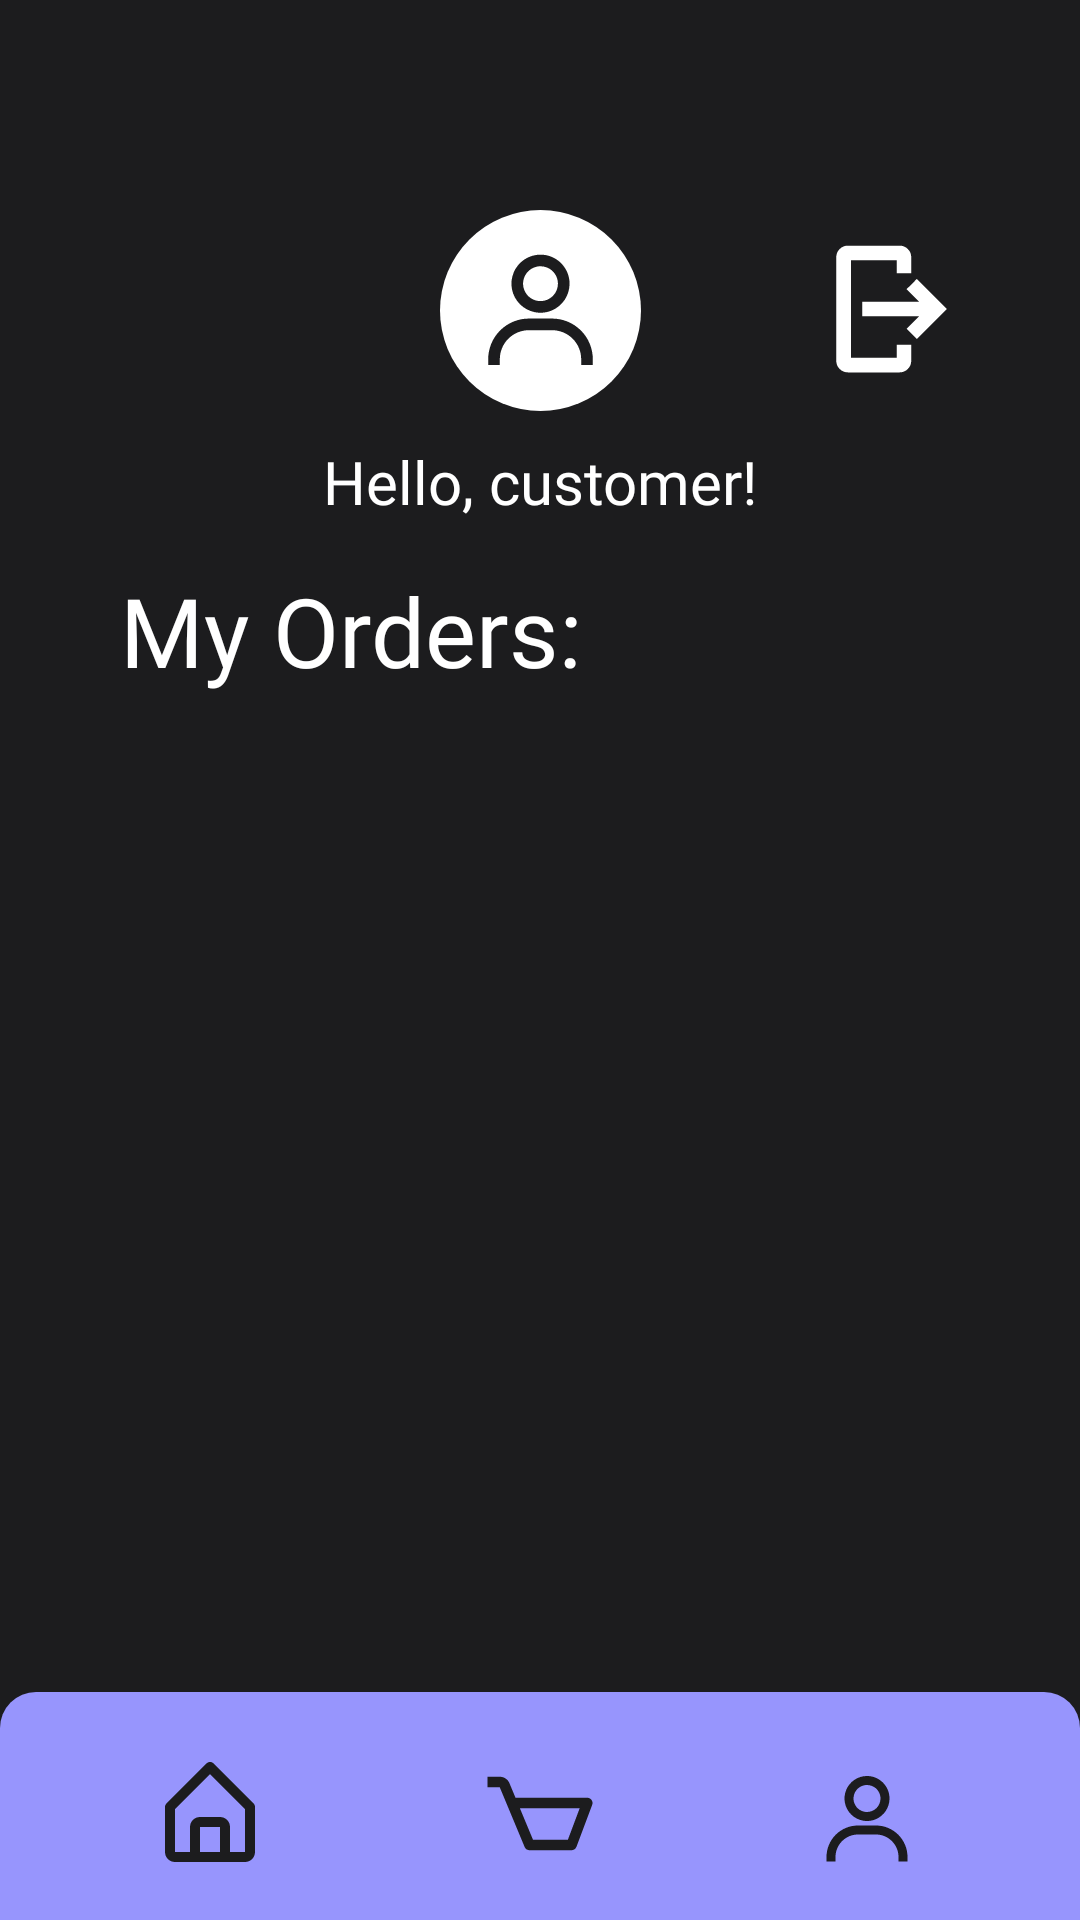

Point at icon controls on the screen. Image size 1080w x 1920h, points as (x,y).
home: (210,1812)
